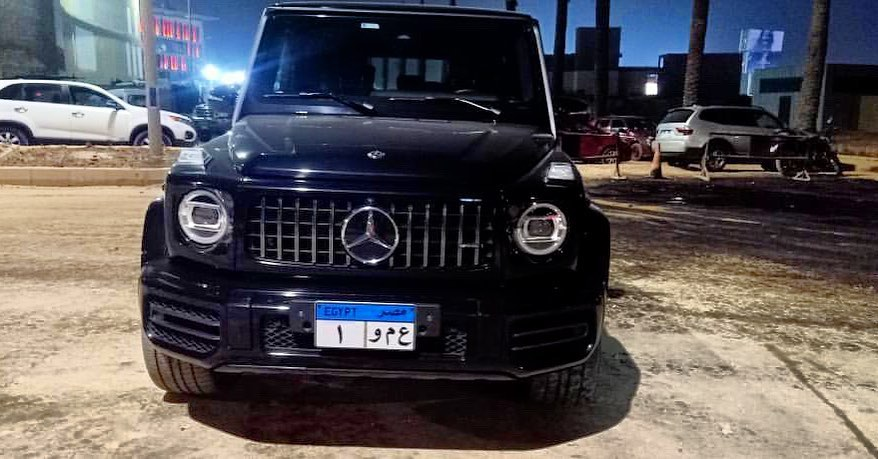carpl: (314, 311, 416, 348)
